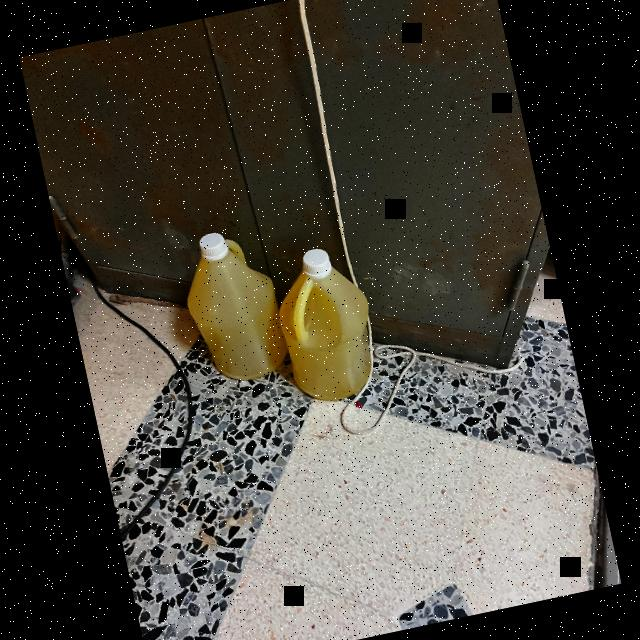chemical_plastic_gallon: (255, 232, 400, 415), (158, 205, 292, 398)
